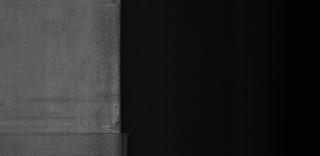welding line: (3, 125, 133, 140)
